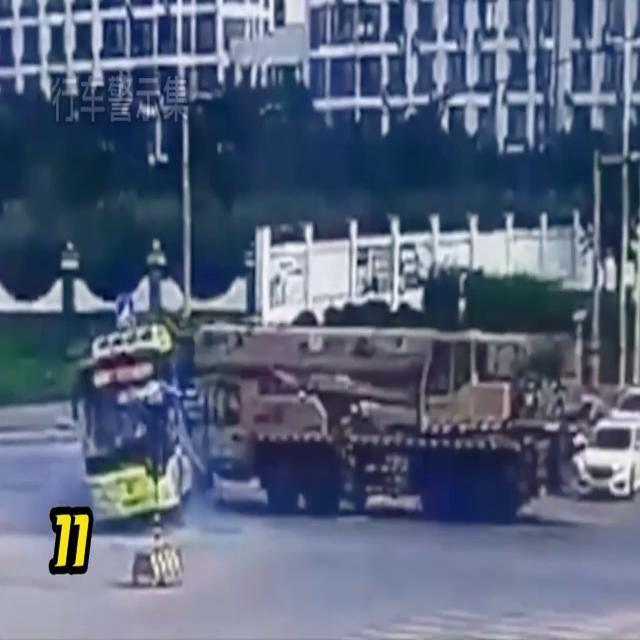accident: (68, 312, 586, 558)
